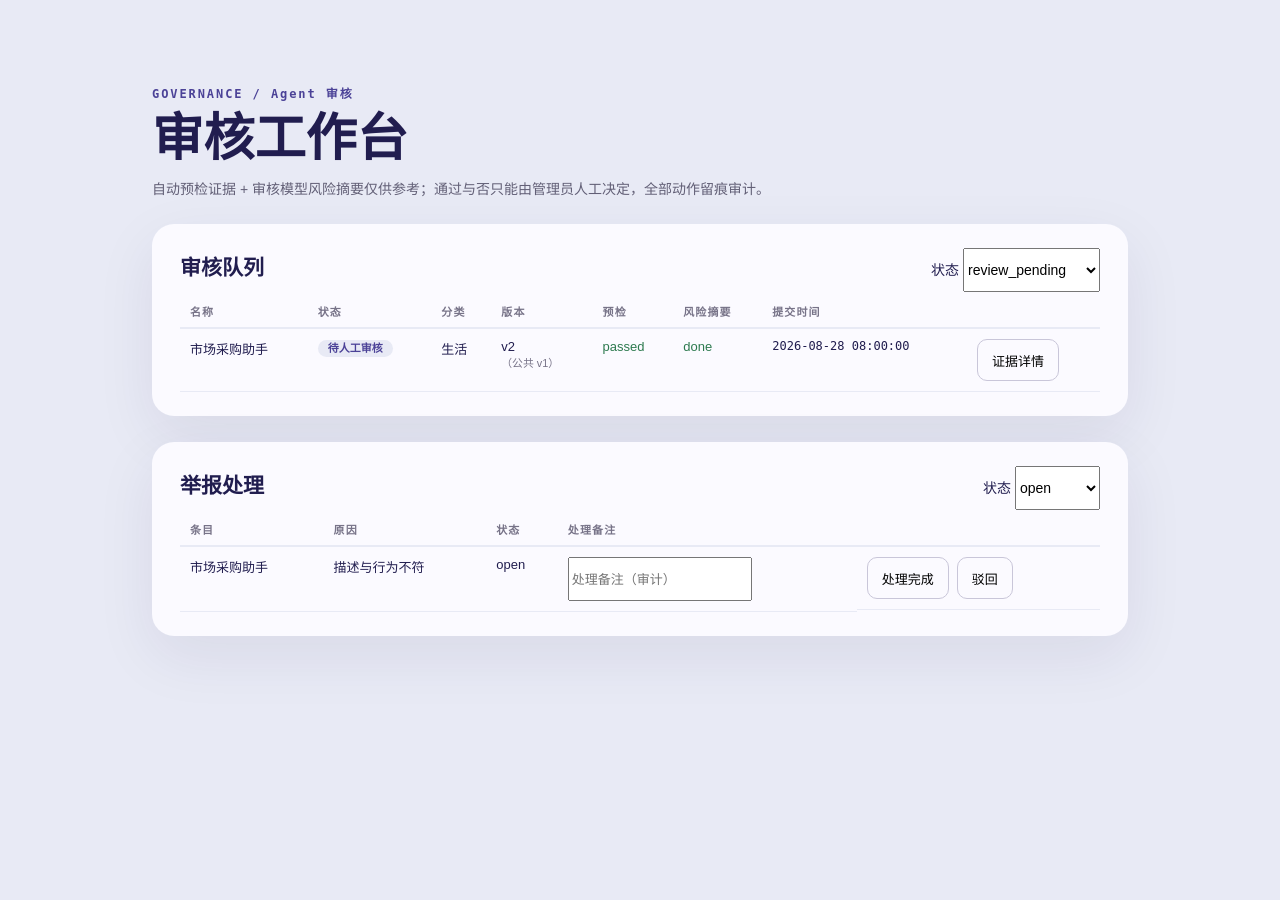
Test: Admin Reviews 审核工作台 › shows the full evidence bundle including advisory risk summary
Click the button with test id "open-submission": click(1018, 360) [977,339,1059,381]
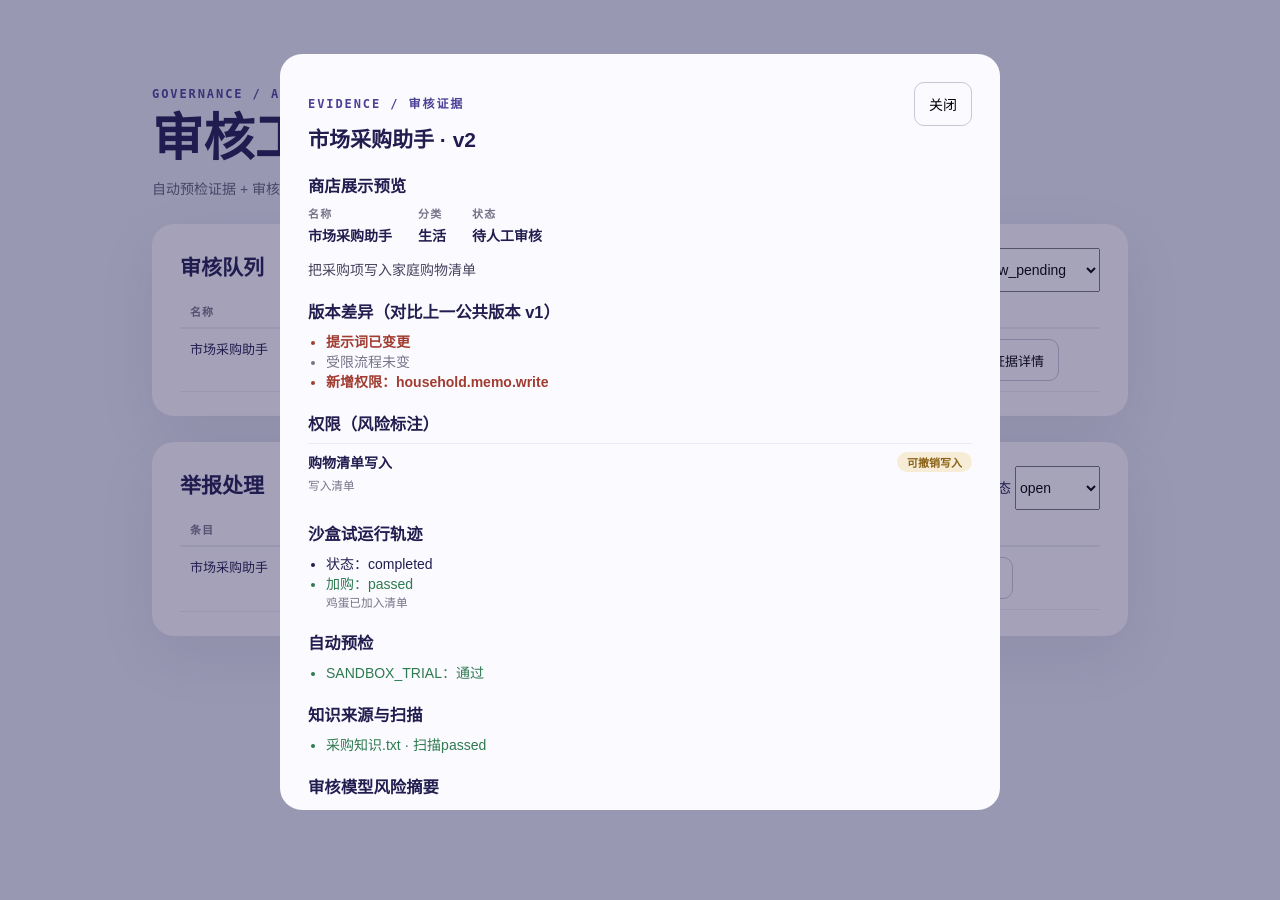
expect the text "把采购项写入家庭购物清单" is shown: met, box [308,262,476,278]
expect the text "household.memo.write" is shown: met, box [326,374,548,390]
expect the text "采购知识.txt" is shown: met, box [326,737,486,753]
